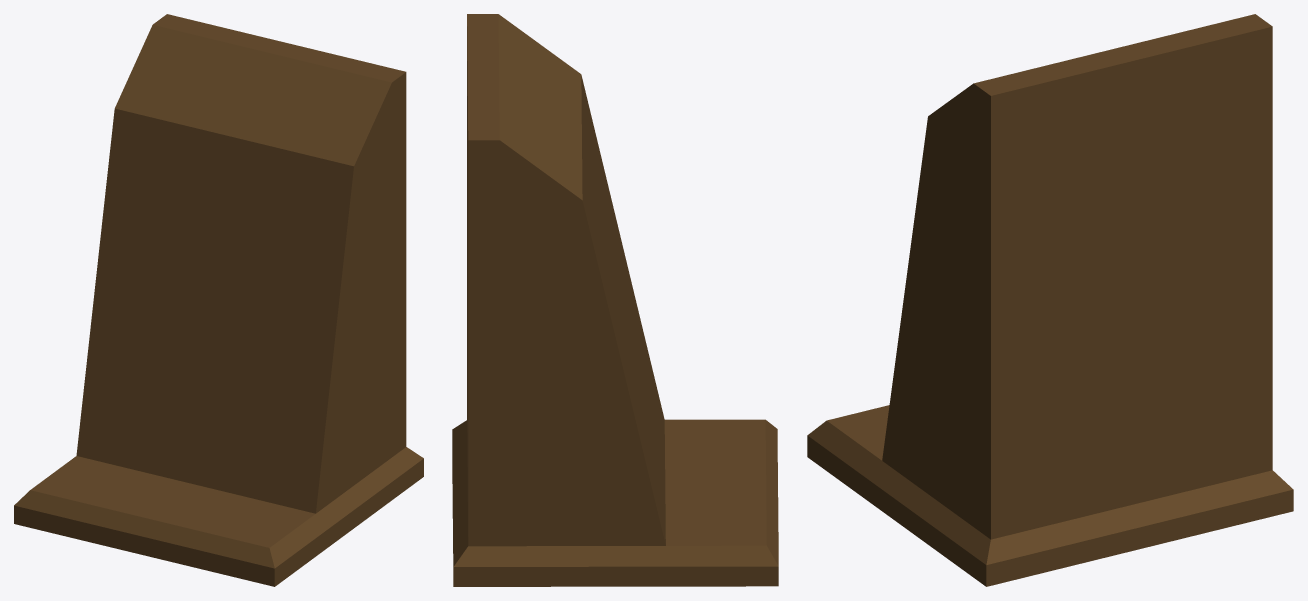
Rendered from BookHolder.fbx.
The picture shows the model from 3 angles, left to right: view 1: azimuth 30°, elevation 25°; view 2: azimuth 150°, elevation 25°; view 3: azimuth 270°, elevation 25°; orthographic projection. The views are drawn at different scales.
Parts seen in each view (by area): view 1: BookEnd.007; view 2: BookEnd.007; view 3: BookEnd.007.
Boxes of the visible parts, bbox=[...] form: BookEnd.007: bbox=[14, 14, 423, 586]; BookEnd.007: bbox=[452, 14, 778, 586]; BookEnd.007: bbox=[807, 14, 1293, 586].
Size of the model in its own units: 21.06 by 23.04 by 21.06.
